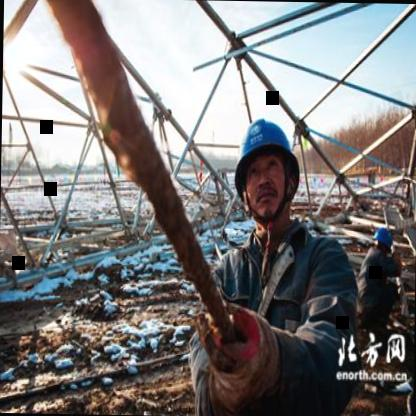helmet: (228, 105, 305, 232), (371, 224, 395, 259)
